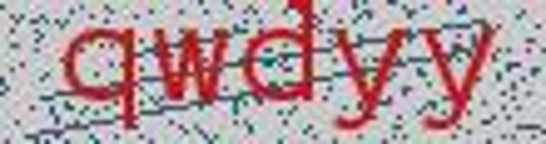d: (236, 1, 320, 109)
q: (58, 20, 142, 144)
w: (148, 19, 234, 111)
y: (415, 20, 501, 139), (328, 20, 404, 141)
